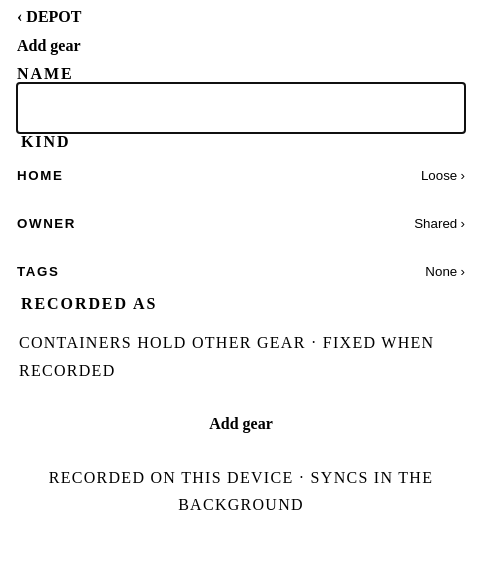
Scenario: Add gear — the sitting › counts the sitting once something has been recorded
The image size is (483, 575).
Type "Tent peg" into the field labelled "Name".
click(241, 108); type("Tent peg")  # box [17,83,465,133]
Then press Enter
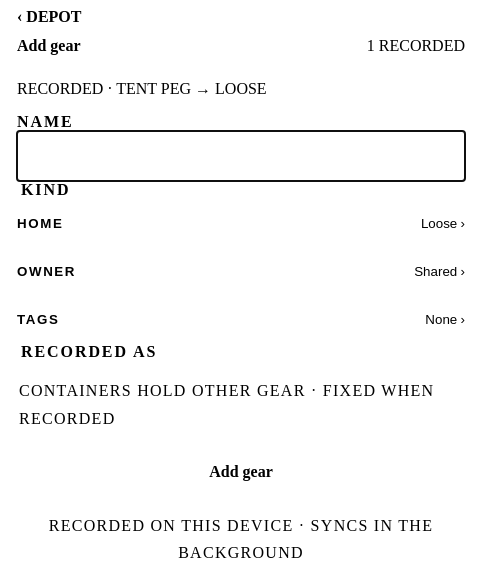
Type "Mallet" into the field labelled "Name".
click(241, 156); type("Mallet")  # box [17,131,465,181]
Then press Enter
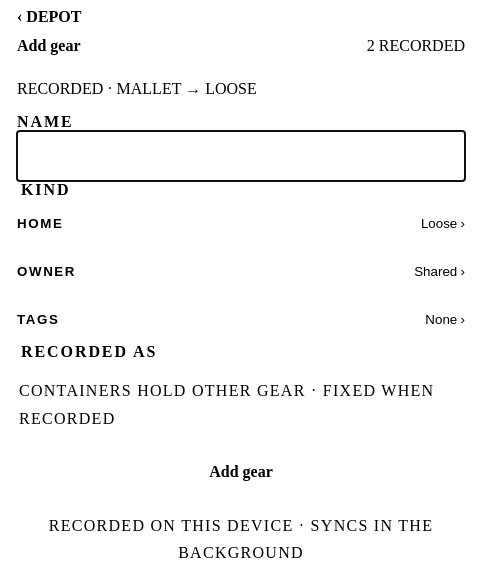
Check: the text with test id "session-count" reads "2 RECORDED", box [367,37,465,55]
